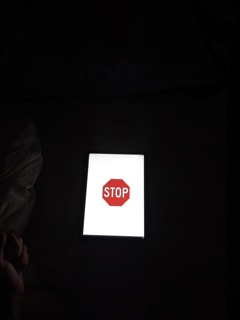STOP: (102, 178, 131, 208)
